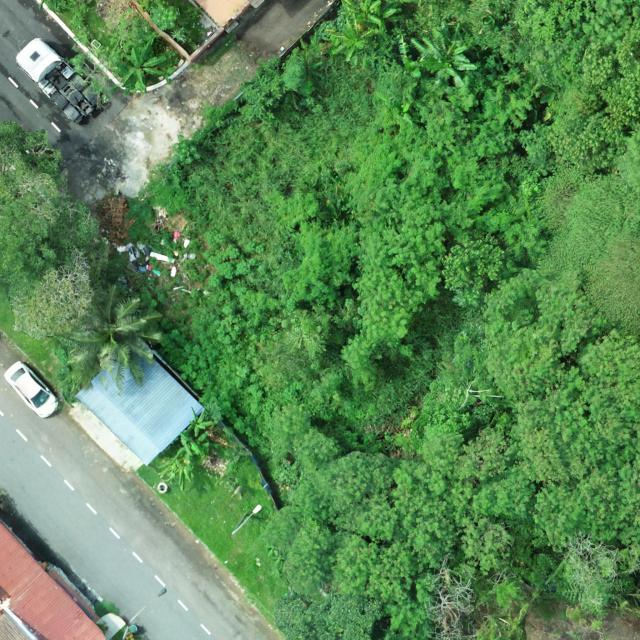Tree: (258, 450, 480, 640), (512, 326, 640, 486), (479, 266, 615, 400), (532, 463, 640, 607), (0, 167, 108, 291), (53, 284, 162, 392), (10, 247, 94, 342), (0, 121, 68, 207), (270, 594, 388, 640), (411, 22, 477, 87), (329, 12, 379, 67), (120, 37, 167, 93), (341, 0, 402, 41), (155, 457, 195, 492), (174, 432, 210, 462), (187, 405, 216, 438)
